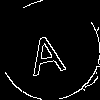A: (25, 25, 67, 76)
